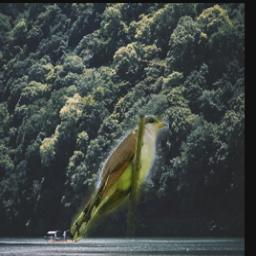Cuckoo: (70, 115, 168, 241)
